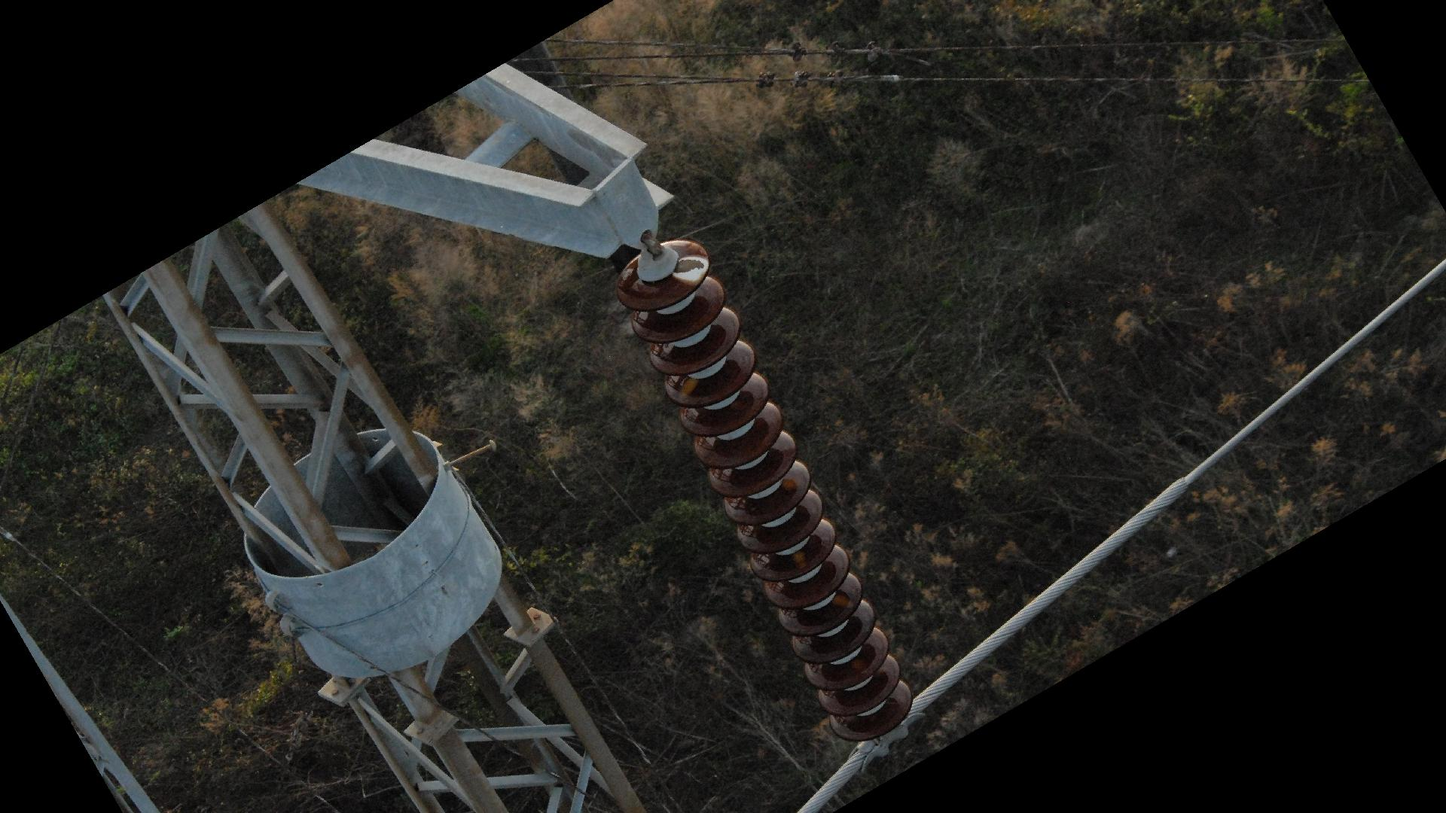insulator: (612, 233, 919, 749)
insulator_flashover: (670, 254, 710, 284), (673, 375, 698, 404)
